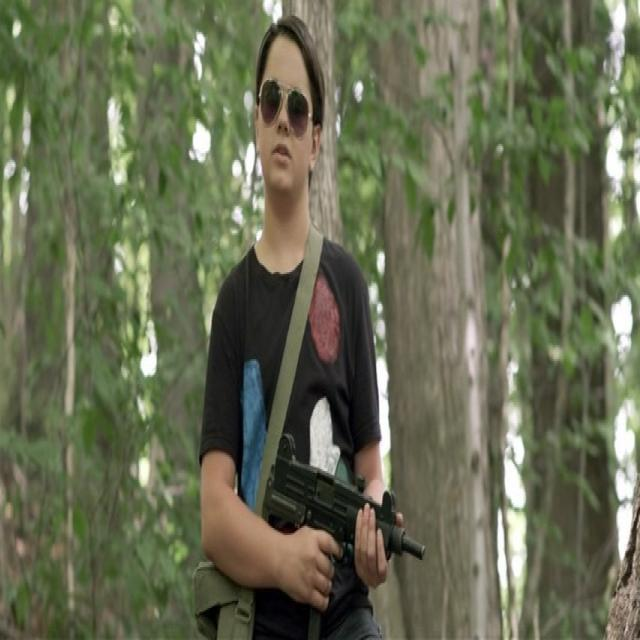gun-knife-thesis - v11 Yolov5 augmented: (256, 424, 428, 638)
